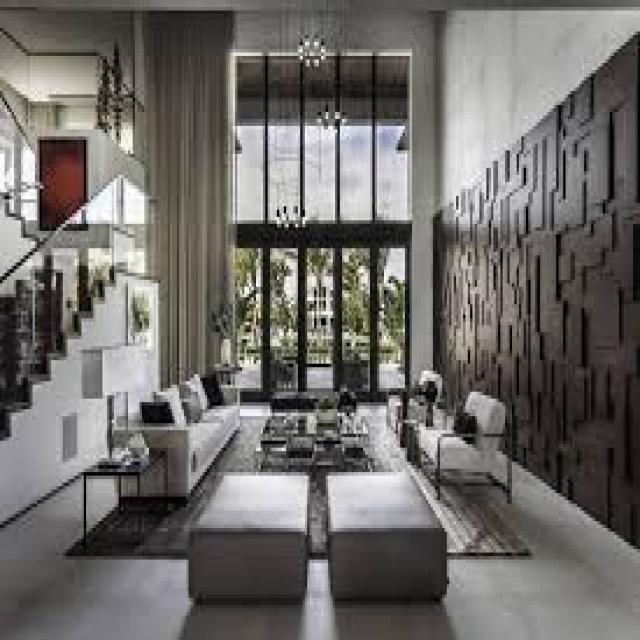Chair: (407, 399, 514, 498), (382, 373, 445, 428)
Lamp: (271, 195, 318, 243), (292, 21, 332, 76), (312, 94, 351, 143)
Sofa: (114, 371, 242, 499)
Table: (77, 432, 166, 549), (254, 398, 370, 463)
